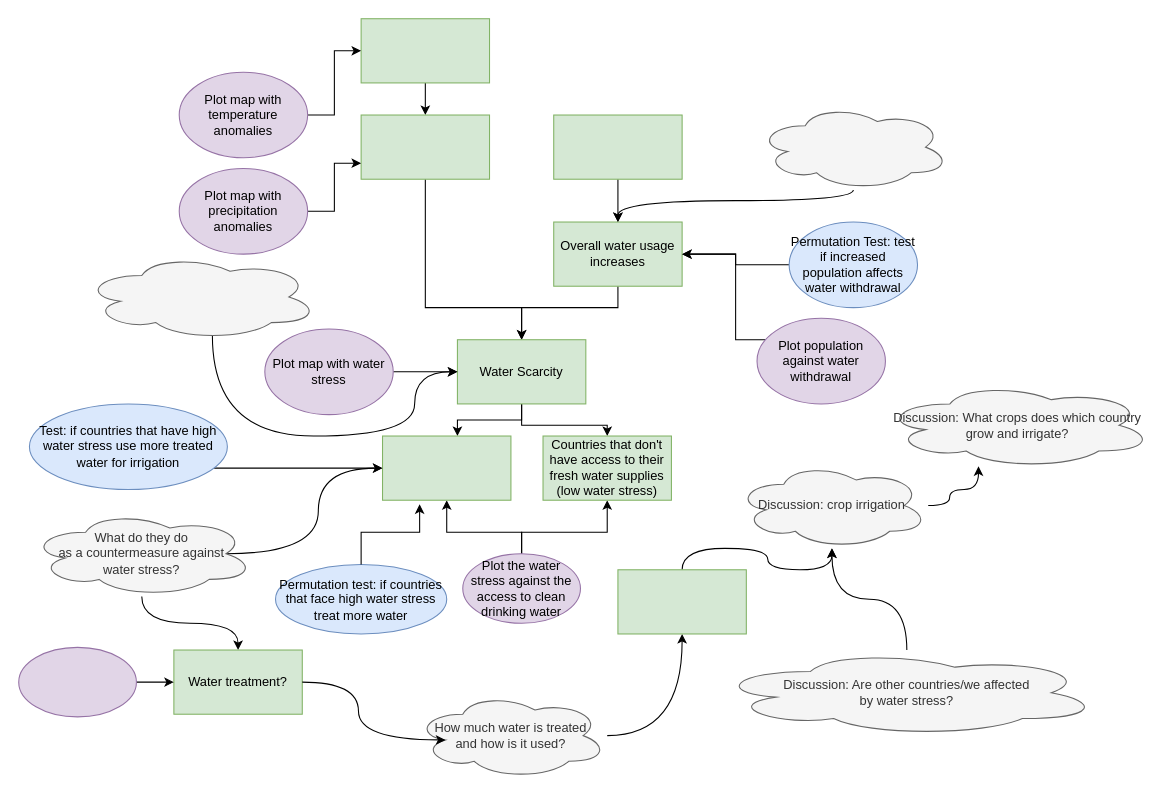
Some shapes in this 1172 by 797 pixel diagram are drawn without their labels. Each missing label, with the centre of its shape:
"Countries that face water scarcity (high water stress)" belongs at [446,467].
"Crop irrigation" belongs at [681,601].
"Does population growth affect water usage?" belongs at [853,146].
"Future work: Do water treatment facilities help?" belongs at [200,296].
"Plot map how much water is treated" belongs at [77,681].
"Population increases" belongs at [617,146].
"Precipitation changes globally (anomalies)" belongs at [425,146].
"Temperatures changes globally (anomalies)" belongs at [425,50].
